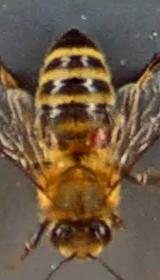varroa_mite: (78, 119, 121, 151)
